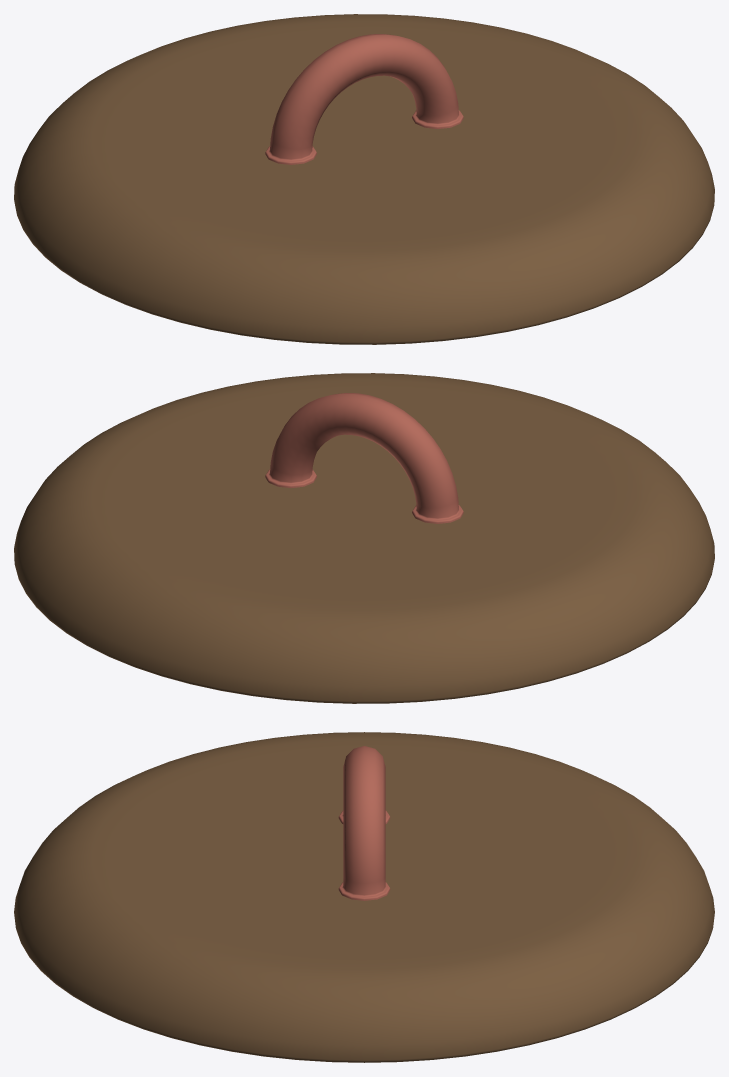
Rendered from SM_Kitchen_Pan_Top_01.fbx.
The picture shows the model from 3 angles, top to bottom: view 1: azimuth 30°, elevation 25°; view 2: azimuth 150°, elevation 25°; view 3: azimuth 270°, elevation 25°; orthographic projection.
Parts seen in each view (by area): view 1: SM_Kitchen_Pan_Top_01; view 2: SM_Kitchen_Pan_Top_01; view 3: SM_Kitchen_Pan_Top_01.
Boxes of the visible parts, left/top/right/bottom form: SM_Kitchen_Pan_Top_01: left=14, top=14, right=714, bottom=344; SM_Kitchen_Pan_Top_01: left=14, top=373, right=714, bottom=703; SM_Kitchen_Pan_Top_01: left=14, top=732, right=714, bottom=1062.
Size of what is drawn, in the model's own units: 44.28 by 11.51 by 44.28.
